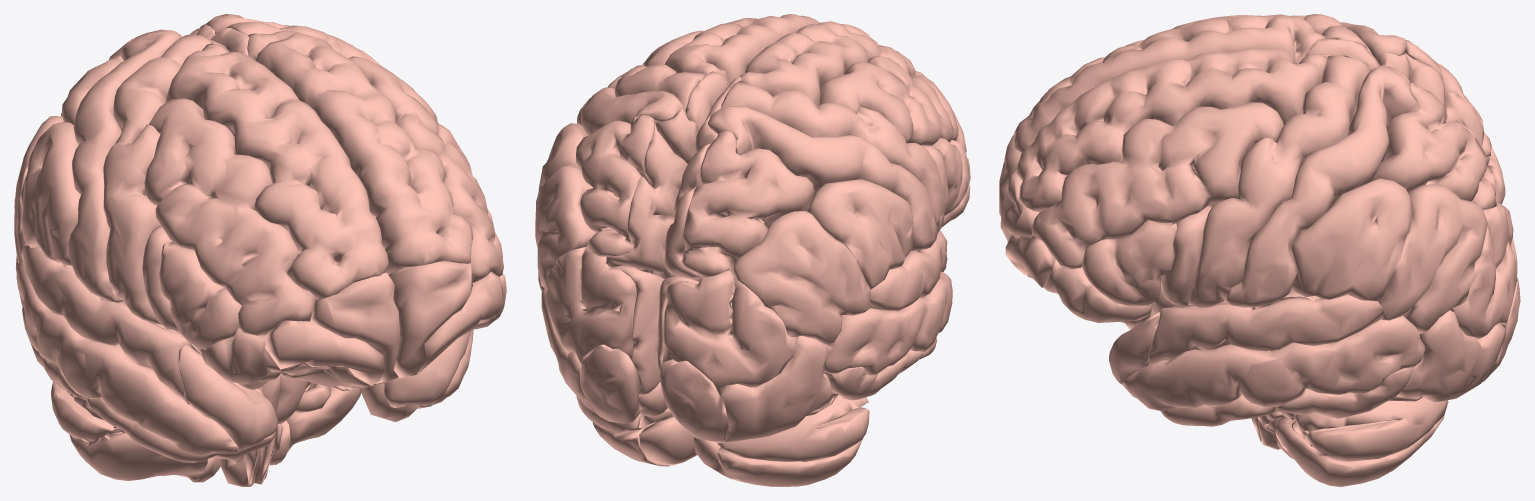
The model's file is allen_m_brain-20.glb.
3 renders of one model, left to right at view 1: azimuth 30°, elevation 25°; view 2: azimuth 150°, elevation 25°; view 3: azimuth 270°, elevation 25°, orthographic. The views are drawn at different scales.
Parts seen in each view (by area): view 1: Allen_superior_frontal_gyrus_L, Allen_middle_frontal_gyrus_L, Allen_superior_frontal_gyrus_R, Allen_middle_temporal_gyrus_L, Allen_precentral_gyrus_L, Allen_postcentral_gyrus_L, Allen_superior_temporal_gyrus_L, Allen_middle_frontal_gyrus_R, Allen_supramarginal_gyrus_L, Allen_rostral_gyrus_R, Allen_lateral_hemisphere_of_cerebellum_L, Allen_inferior_frontal_gyrus_triangular_part_L (+19 smaller); view 2: Allen_supraparietal_lobule_L, Allen_angular_gyrus_L, Allen_superior_occipital_gyrus_L, Allen_postcentral_gyrus_L, Allen_lateral_hemisphere_of_cerebellum_L, Allen_superior_occipital_gyrus_R, Allen_supraparietal_lobule_R, Allen_precentral_gyrus_L, Allen_supramarginal_gyrus_L, Allen_middle_frontal_gyrus_L, Allen_superior_frontal_gyrus_L, Allen_middle_temporal_gyrus_L (+24 smaller); view 3: Allen_middle_frontal_gyrus_R, Allen_superior_frontal_gyrus_R, Allen_middle_temporal_gyrus_R, Allen_precentral_gyrus_R, Allen_postcentral_gyrus_R, Allen_supramarginal_gyrus_R, Allen_angular_gyrus_R, Allen_superior_temporal_gyrus_R, Allen_lateral_hemisphere_of_cerebellum_R, Allen_superior_frontal_gyrus_L, Allen_supraparietal_lobule_R, Allen_inferior_frontal_gyrus_triangular_part_R (+16 smaller).
Part boxes in pixels (<box>): Allen_superior_frontal_gyrus_L: <box>165,43,388,300</box>; Allen_middle_frontal_gyrus_L: <box>144,98,316,335</box>; Allen_superior_frontal_gyrus_R: <box>247,30,473,273</box>; Allen_middle_temporal_gyrus_L: <box>16,260,239,455</box>; Allen_precentral_gyrus_L: <box>103,34,210,324</box>; Allen_postcentral_gyrus_L: <box>68,29,181,302</box>; Allen_superior_temporal_gyrus_L: <box>21,245,194,404</box>; Allen_middle_frontal_gyrus_R: <box>348,56,503,282</box>; Allen_supramarginal_gyrus_L: <box>21,122,80,265</box>; Allen_rostral_gyrus_R: <box>389,260,472,378</box>; Allen_lateral_hemisphere_of_cerebellum_L: <box>51,381,207,480</box>; Allen_inferior_frontal_gyrus_triangular_part_L: <box>159,241,241,350</box>; Allen_supraparietal_lobule_L: <box>681,130,814,277</box>; Allen_angular_gyrus_L: <box>733,210,870,344</box>; Allen_superior_occipital_gyrus_L: <box>662,270,797,394</box>; Allen_postcentral_gyrus_L: <box>707,106,938,251</box>; Allen_lateral_hemisphere_of_cerebellum_L: <box>717,394,869,486</box>; Allen_superior_occipital_gyrus_R: <box>546,245,636,365</box>; Allen_supraparietal_lobule_R: <box>576,115,654,256</box>; Allen_precentral_gyrus_L: <box>721,80,945,232</box>; Allen_supramarginal_gyrus_L: <box>807,179,913,289</box>; Allen_middle_frontal_gyrus_L: <box>819,55,966,152</box>; Allen_superior_frontal_gyrus_L: <box>740,21,926,106</box>; Allen_middle_temporal_gyrus_L: <box>824,271,952,375</box>; Allen_middle_frontal_gyrus_R: <box>1032,102,1283,269</box>; Allen_superior_frontal_gyrus_R: <box>1016,49,1327,212</box>; Allen_middle_temporal_gyrus_R: <box>1122,315,1424,411</box>; Allen_precentral_gyrus_R: <box>1188,55,1371,307</box>; Allen_postcentral_gyrus_R: <box>1224,65,1419,307</box>; Allen_supramarginal_gyrus_R: <box>1290,178,1411,301</box>; Allen_angular_gyrus_R: <box>1378,184,1487,333</box>; Allen_superior_temporal_gyrus_R: <box>1147,294,1383,366</box>; Allen_lateral_hemisphere_of_cerebellum_R: <box>1266,397,1448,486</box>; Allen_superior_frontal_gyrus_L: <box>1013,14,1325,152</box>; Allen_supraparietal_lobule_R: <box>1370,82,1496,209</box>; Allen_inferior_frontal_gyrus_triangular_part_R: <box>1082,220,1176,306</box>.
Size of the model in its own units: 0.136 by 0.1459 by 0.1668.
